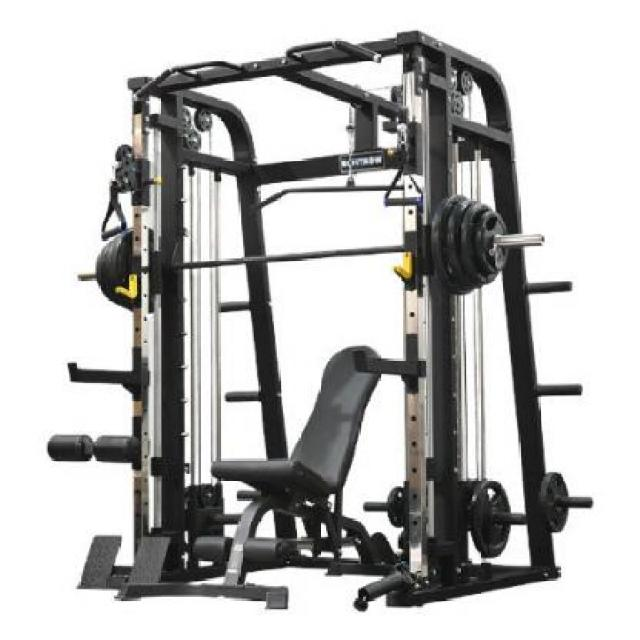smith machine: (78, 31, 594, 609)
